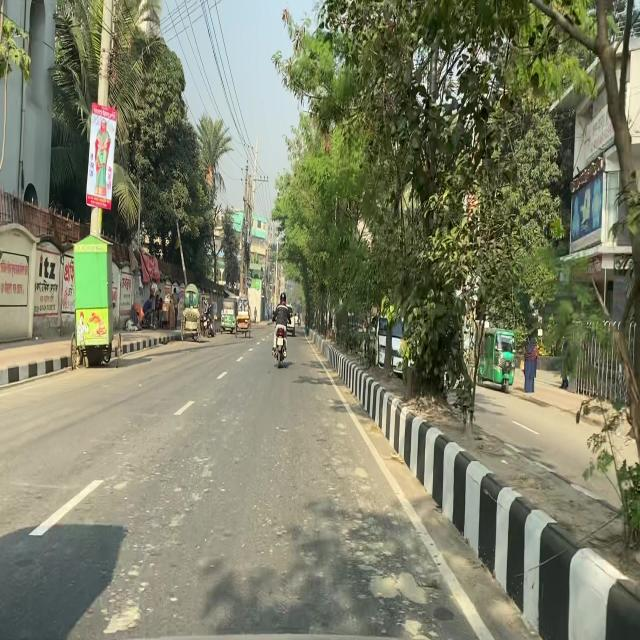car: (364, 311, 421, 386)
motorbike: (272, 310, 294, 370), (201, 304, 216, 339)
